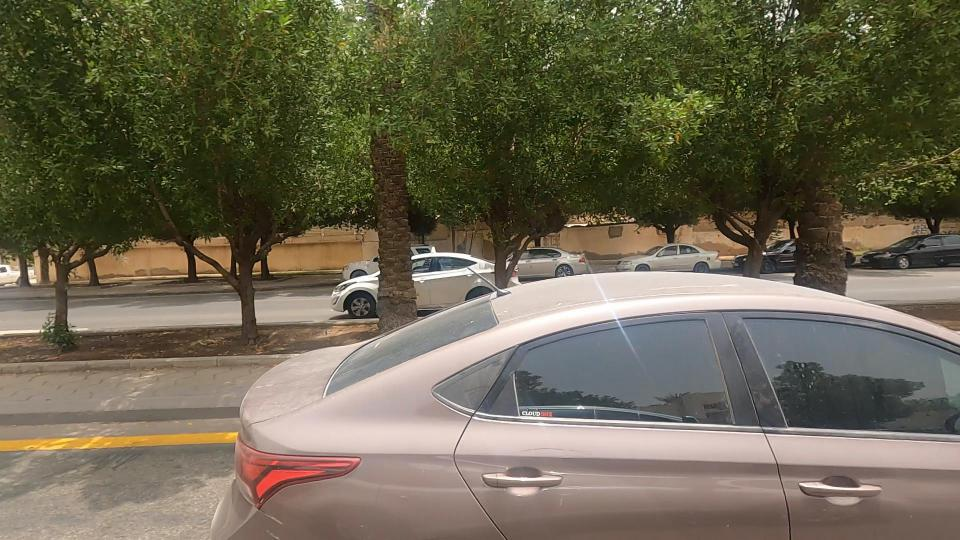GARBAGE: (173, 323, 237, 365)
